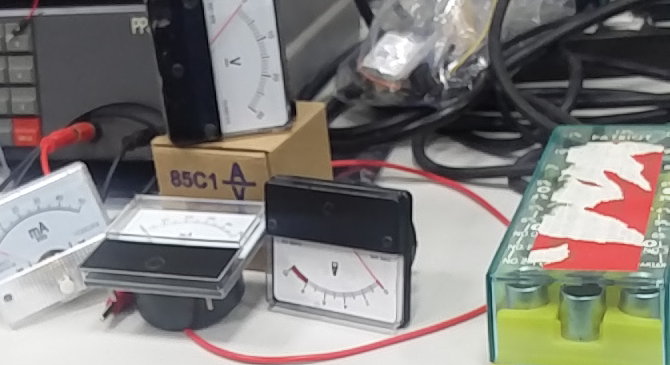Amp_Meter: (267, 234, 403, 334)
MilliAmp_Meter: (1, 156, 112, 278), (114, 192, 255, 254)
Volt_Meter: (196, 1, 294, 135)
